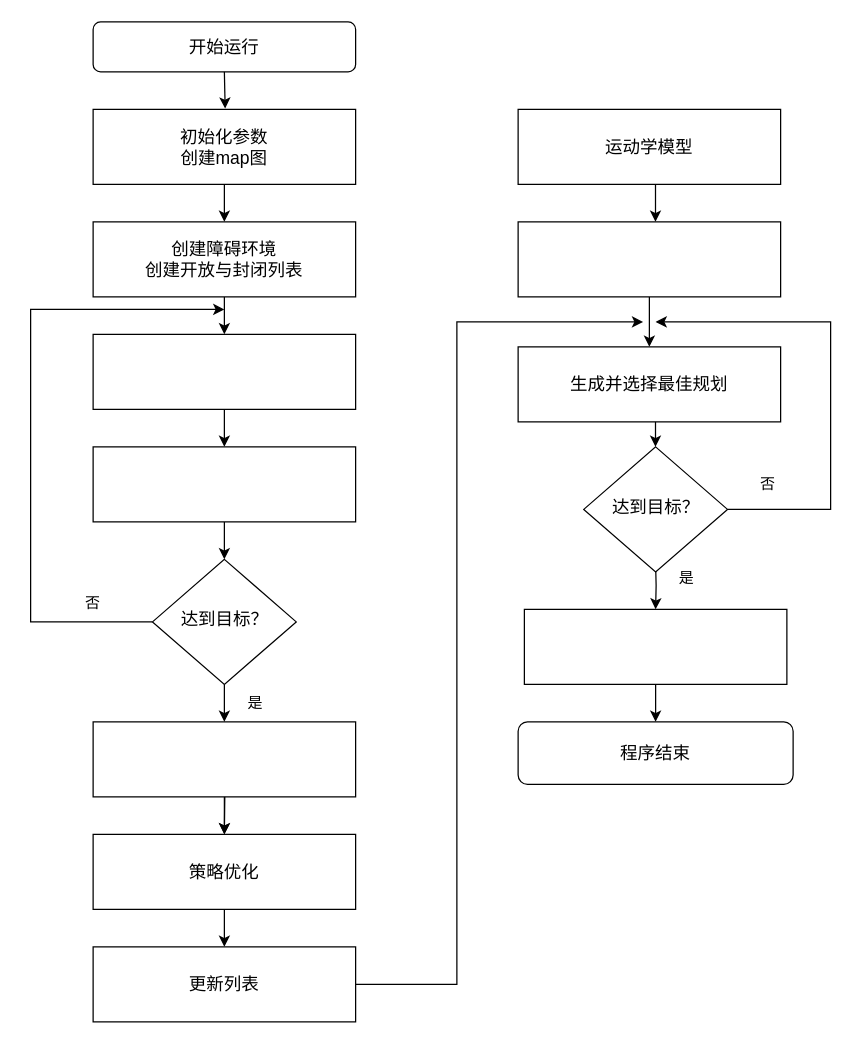
Image size: 863x1044. Some labels were removed from this diagram. Here are the shapes that lost their labels. From the top down, the centre of each, then its label:
At (649,259): "速度采样".
At (224,371): "计算次节点 (f(n),g(n),h(n))".
At (224,484): "最小化f(n)".
At (655,646): "最佳规划".
At (224,759): "找寻关键节点".
